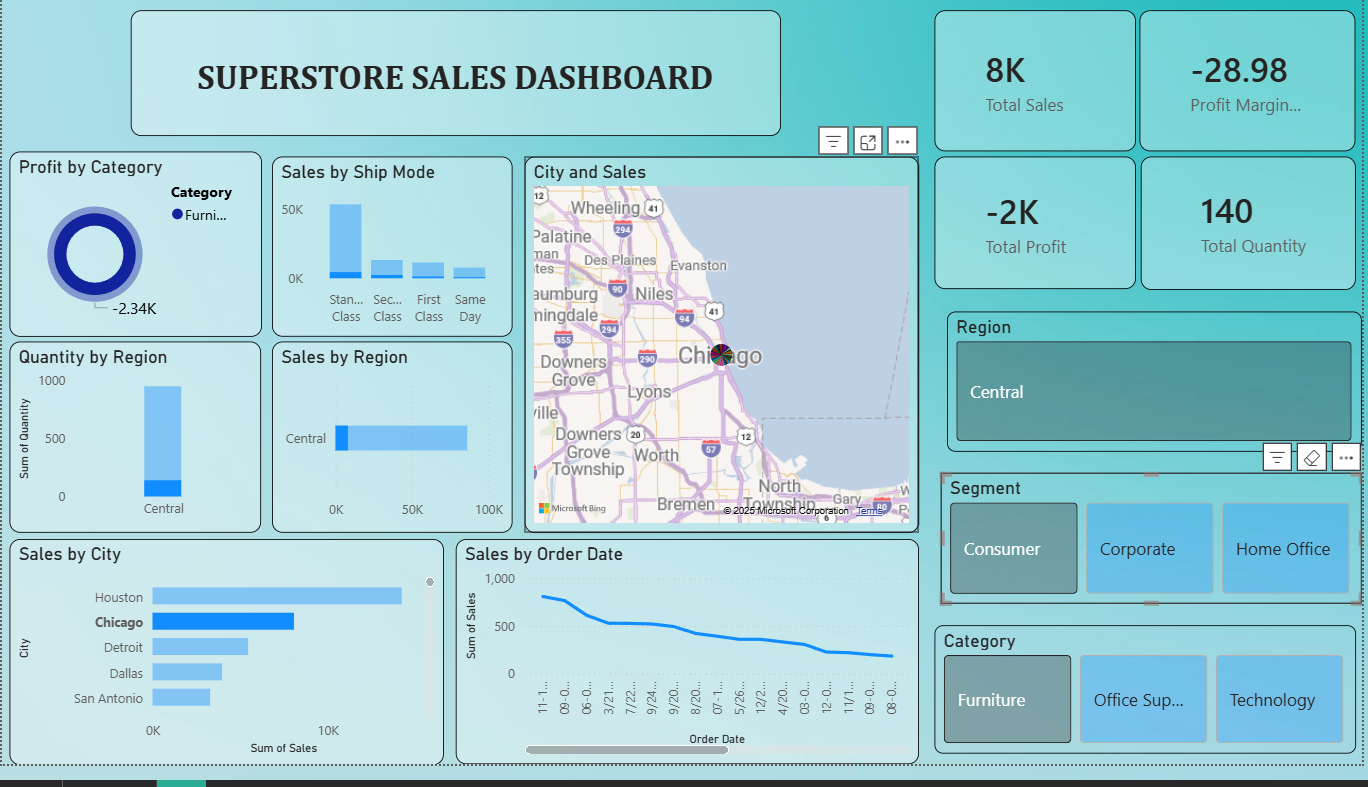

Layout of this report page (visuals, bound fields, positions):
{"tool":"powerbi","page":{"name":"Page 1","canvas":[1280,720],"ordinal":0},"visuals":[{"type":"cardVisual","fields":{"Data":["Sample - Superstore2.Profit Margin %"]},"box":[1070.9,10.5,203.5,132.6],"z":0},{"type":"cardVisual","fields":{"Data":["Sample - Superstore2.Total_Sales"]},"box":[877.9,10.5,189.5,132.6],"z":1000},{"type":"cardVisual","fields":{"Data":["Sample - Superstore2.Total Profit"]},"box":[877.9,147.7,189.5,124.4],"z":2000},{"type":"cardVisual","fields":{"Data":["Sample - Superstore2.Total_Quantity"]},"box":[1072.1,147.7,202.3,125.6],"z":3000},{"type":"clusteredBarChart","title":"Sales by City","fields":{"Category":["Sample - Superstore2.City"],"Y":["Sum(Sample - Superstore2.Sales)"]},"box":[6.9,507.7,408.9,212.5],"z":4000},{"type":"clusteredBarChart","title":"Sales by Region","fields":{"Y":["Sum(Sample - Superstore2.Sales)"],"Category":["Sample - Superstore2.Region"]},"box":[254.7,322.1,226.7,180.2],"z":5000},{"type":"columnChart","title":"Quantity by Region","fields":{"Category":["Sample - Superstore2.Region"],"Y":["Sum(Sample - Superstore2.Quantity)"]},"box":[7,322,237,180],"z":6000},{"type":"donutChart","title":"Profit by Category","fields":{"Category":["Sample - Superstore2.Category"],"Y":["Sum(Sample - Superstore2.Profit)"]},"box":[7,143,237.2,174.4],"z":7000},{"type":"advancedSlicerVisual","fields":{"Values":["Sample - Superstore2.Region"]},"box":[883.7,294.2,390.7,131.4],"z":8000},{"type":"advancedSlicerVisual","fields":{"Values":["Sample - Superstore2.Segment"]},"box":[877.9,444.2,396.5,124.4],"z":9000},{"type":"advancedSlicerVisual","fields":{"Values":["Sample - Superstore2.Category"]},"box":[877.9,589.5,396.5,120.9],"z":10000},{"type":"lineChart","title":"Sales by Order Date","fields":{"Category":["Sample - Superstore2.Order Date"],"Y":["Sum(Sample - Superstore2.Sales)"]},"box":[426.7,508.1,436,211.6],"z":11000},{"type":"map","fields":{"Series":["Sample - Superstore2.Sales"],"Category":["Sample - Superstore2.City"]},"box":[491.9,147.7,370.9,354.7],"z":12000},{"type":"clusteredColumnChart","title":" Sales by Ship Mode","fields":{"Y":["Sum(Sample - Superstore2.Sales)"],"Category":["Sample - Superstore2.Ship Mode"]},"box":[254.7,147.7,226.7,169.8],"z":13000},{"type":"textbox","box":[15.1,33.7,847.7,95.3],"z":13001}]}

Visuals, with their boxes in screenshot pixels (x1, y1, x2, y2), scaled from the page's 1280x720 canvas onto the 1368x787 screenshot:
cardVisual - Sample - Superstore2.Profit Margin %: [x1=1145, y1=11, x2=1362, y2=156]
cardVisual - Sample - Superstore2.Total_Sales: [x1=938, y1=11, x2=1141, y2=156]
cardVisual - Sample - Superstore2.Total Profit: [x1=938, y1=161, x2=1141, y2=297]
cardVisual - Sample - Superstore2.Total_Quantity: [x1=1146, y1=161, x2=1362, y2=299]
"Sales by City" clusteredBarChart: [x1=7, y1=555, x2=444, y2=786]
"Sales by Region" clusteredBarChart: [x1=272, y1=352, x2=514, y2=549]
"Quantity by Region" columnChart: [x1=7, y1=352, x2=261, y2=549]
"Profit by Category" donutChart: [x1=7, y1=156, x2=261, y2=347]
advancedSlicerVisual - Sample - Superstore2.Region: [x1=944, y1=322, x2=1362, y2=465]
advancedSlicerVisual - Sample - Superstore2.Segment: [x1=938, y1=486, x2=1362, y2=622]
advancedSlicerVisual - Sample - Superstore2.Category: [x1=938, y1=644, x2=1362, y2=777]
"Sales by Order Date" lineChart: [x1=456, y1=555, x2=922, y2=786]
map - Sample - Superstore2.Sales x Sample - Superstore2.City: [x1=526, y1=161, x2=922, y2=549]
" Sales by Ship Mode" clusteredColumnChart: [x1=272, y1=161, x2=514, y2=347]
textbox: [x1=16, y1=37, x2=922, y2=141]
